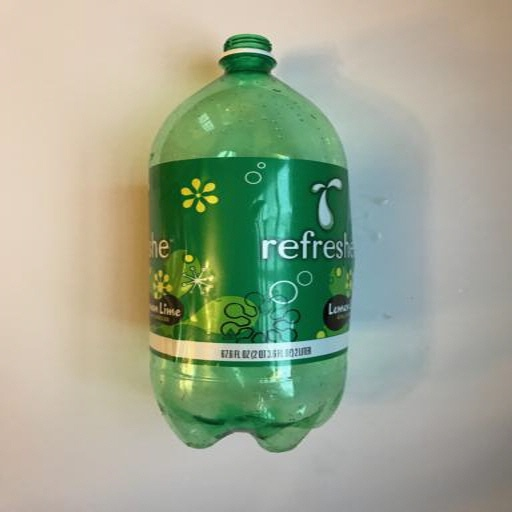Plastic_0: (148, 37, 352, 453)
